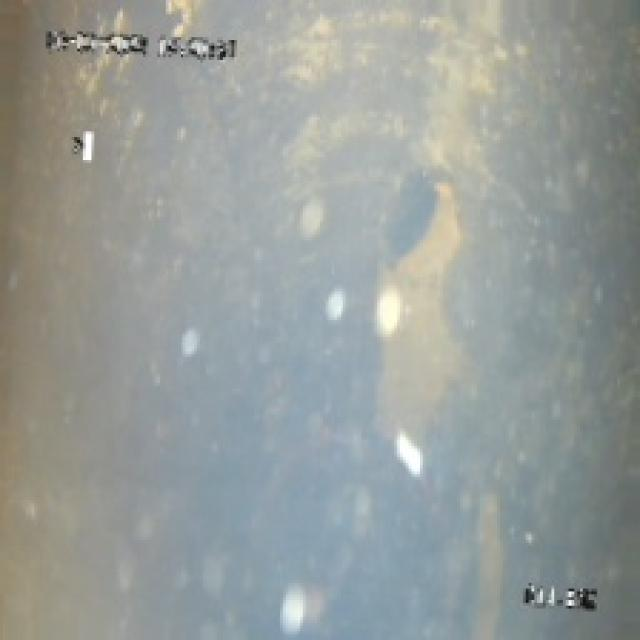pipe_surface_damage: (351, 154, 466, 443)
